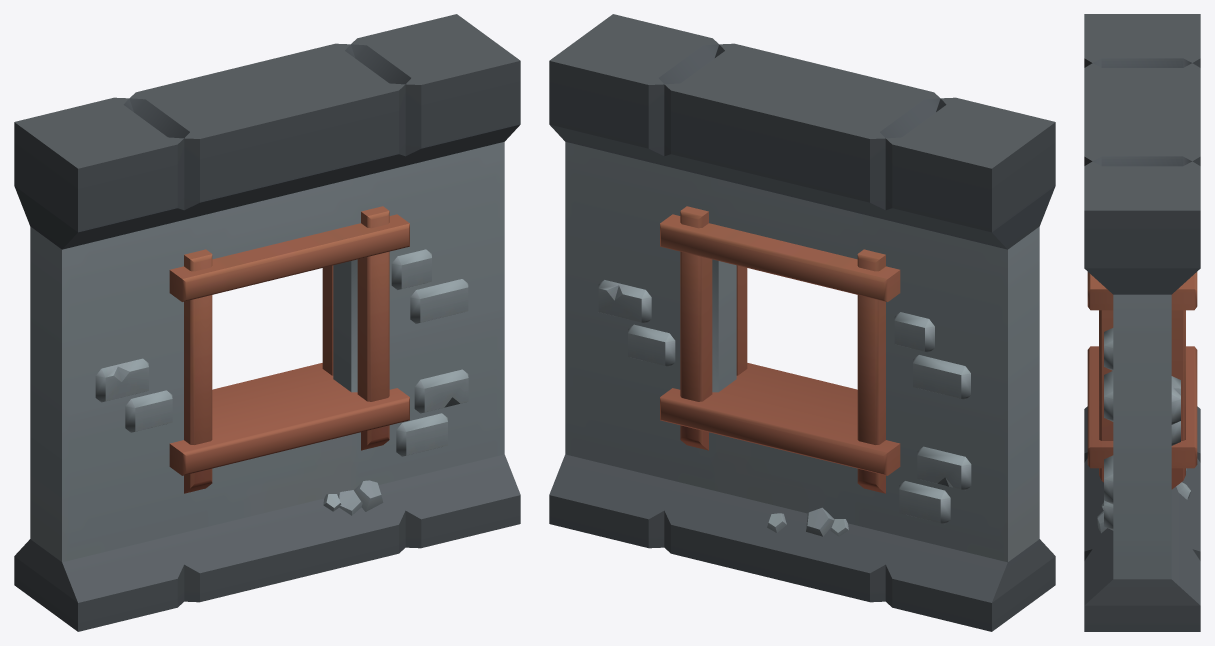
File: wall_window_open.gltf.glb
3 renders of one model, left to right at view 1: azimuth 30°, elevation 25°; view 2: azimuth 150°, elevation 25°; view 3: azimuth 270°, elevation 25°, orthographic. The views are drawn at different scales.
Parts seen in each view (by area): view 1: wall_window_open; view 2: wall_window_open; view 3: wall_window_open.
Boxes of the visible parts, x1,y1,x2,y2 form: wall_window_open: (14, 14, 520, 631); wall_window_open: (549, 14, 1055, 631); wall_window_open: (1084, 14, 1200, 631).
Size of the model in its own units: 4 by 4 by 1.
Materials: 1 (1 with a texture image).
